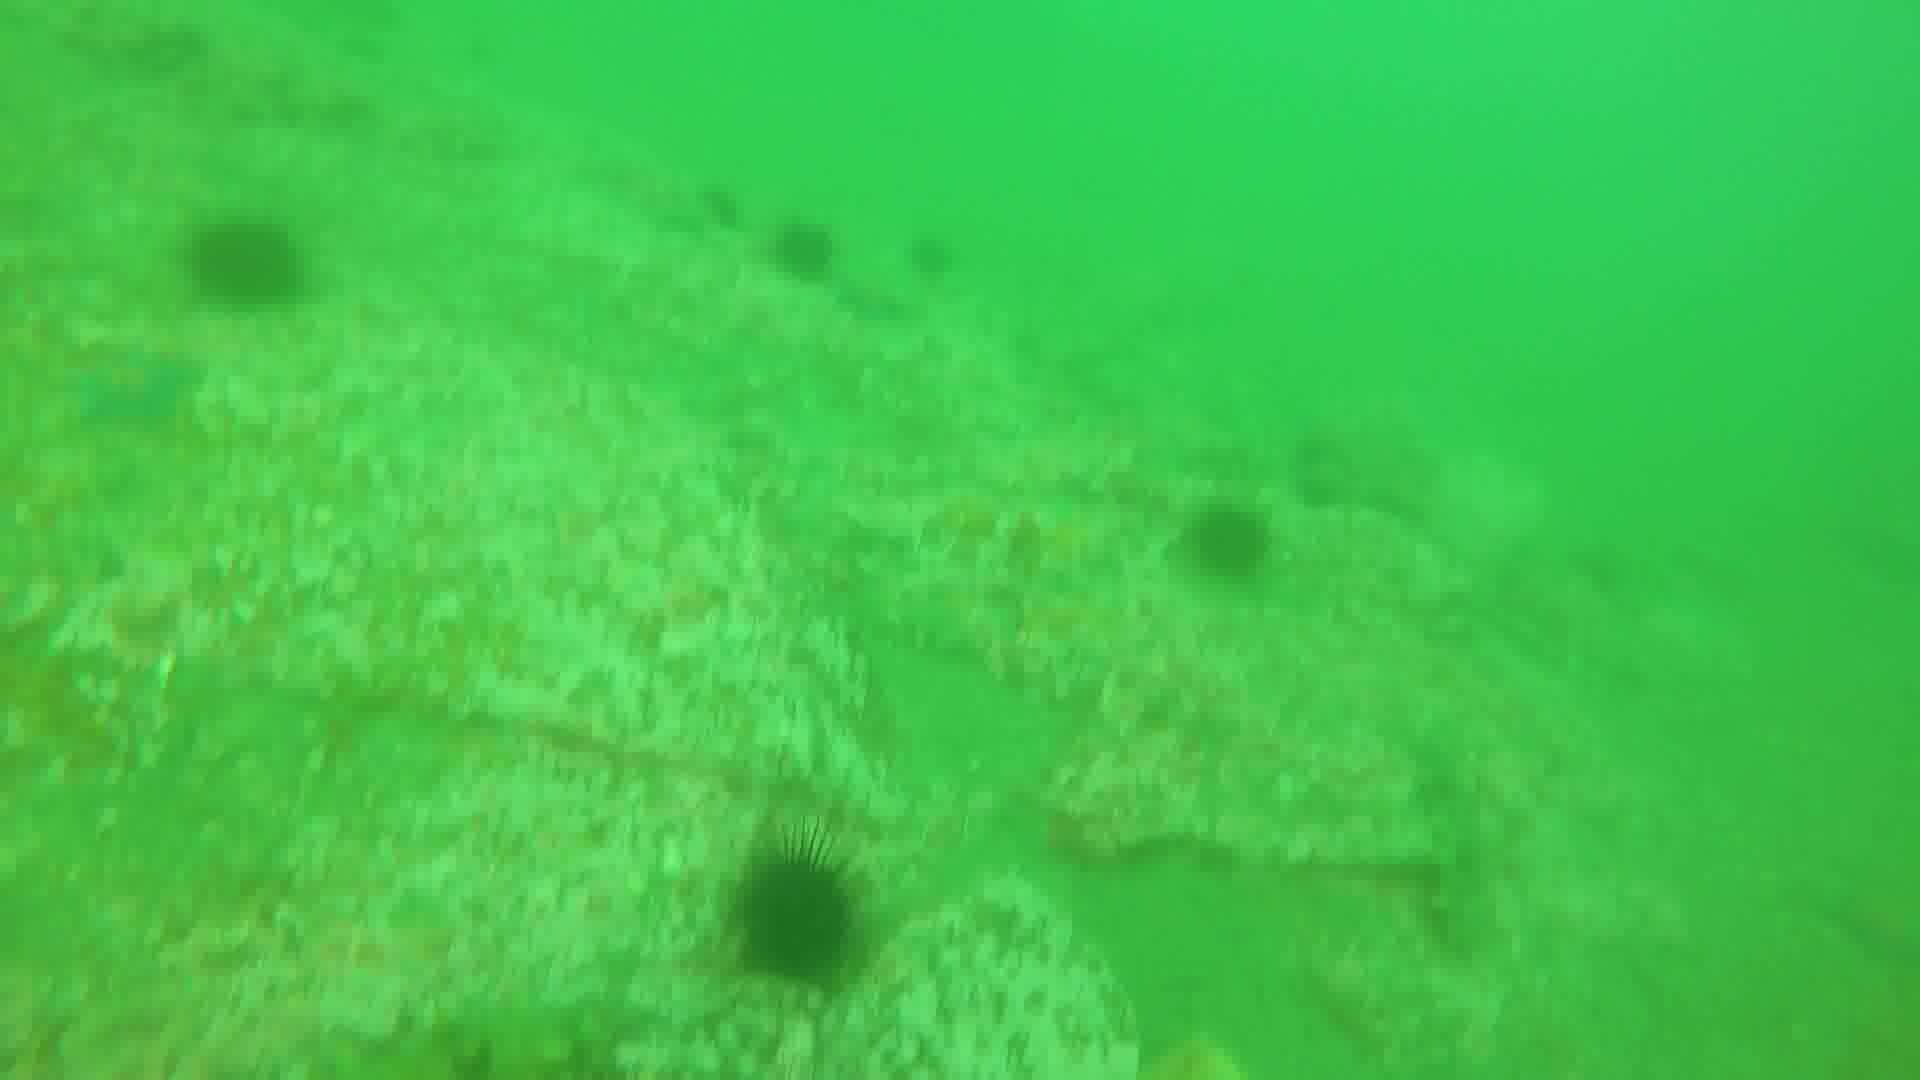echinus: (731, 848, 856, 978), (185, 214, 314, 309), (1188, 495, 1294, 588), (773, 208, 848, 293)
starfish: (71, 342, 214, 435)
